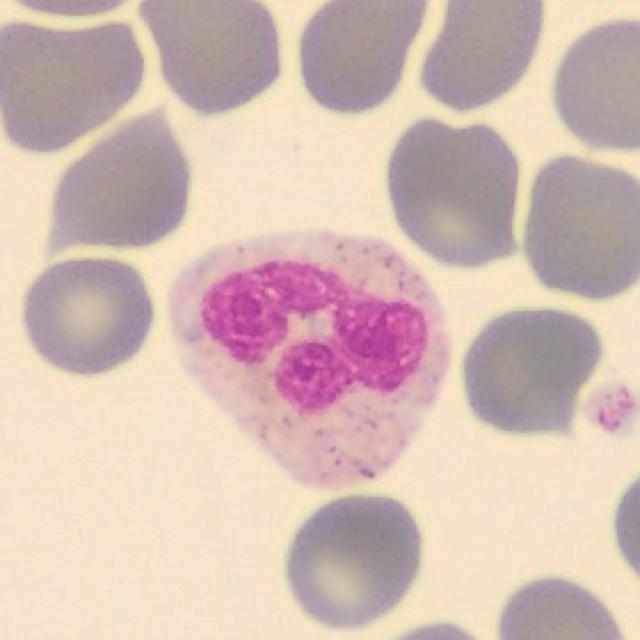Neutrofilo segmentado: (167, 229, 453, 490)
